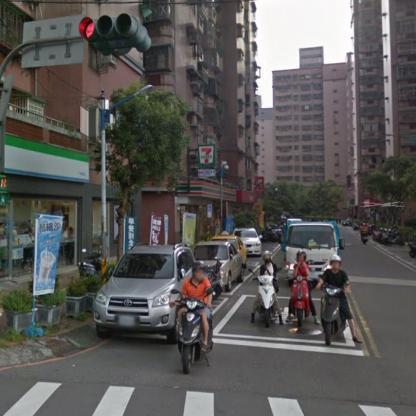Red Light: (79, 15, 144, 49)
